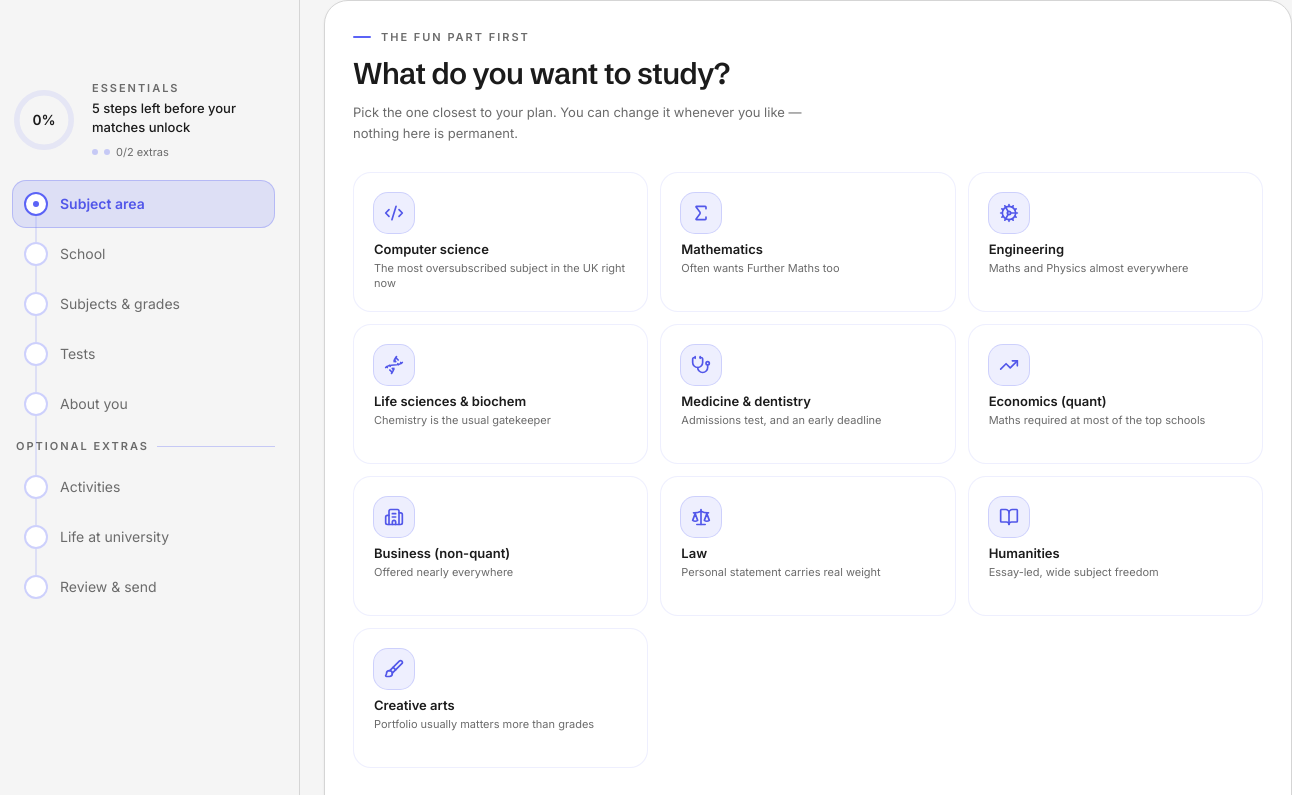
Test: Ascendi › reacts to the subject area with something true about that subject
Click the radio button labelled "Medicine & dentistry Admissions test, and an early deadline" at (808, 394), box [660, 324, 956, 464]
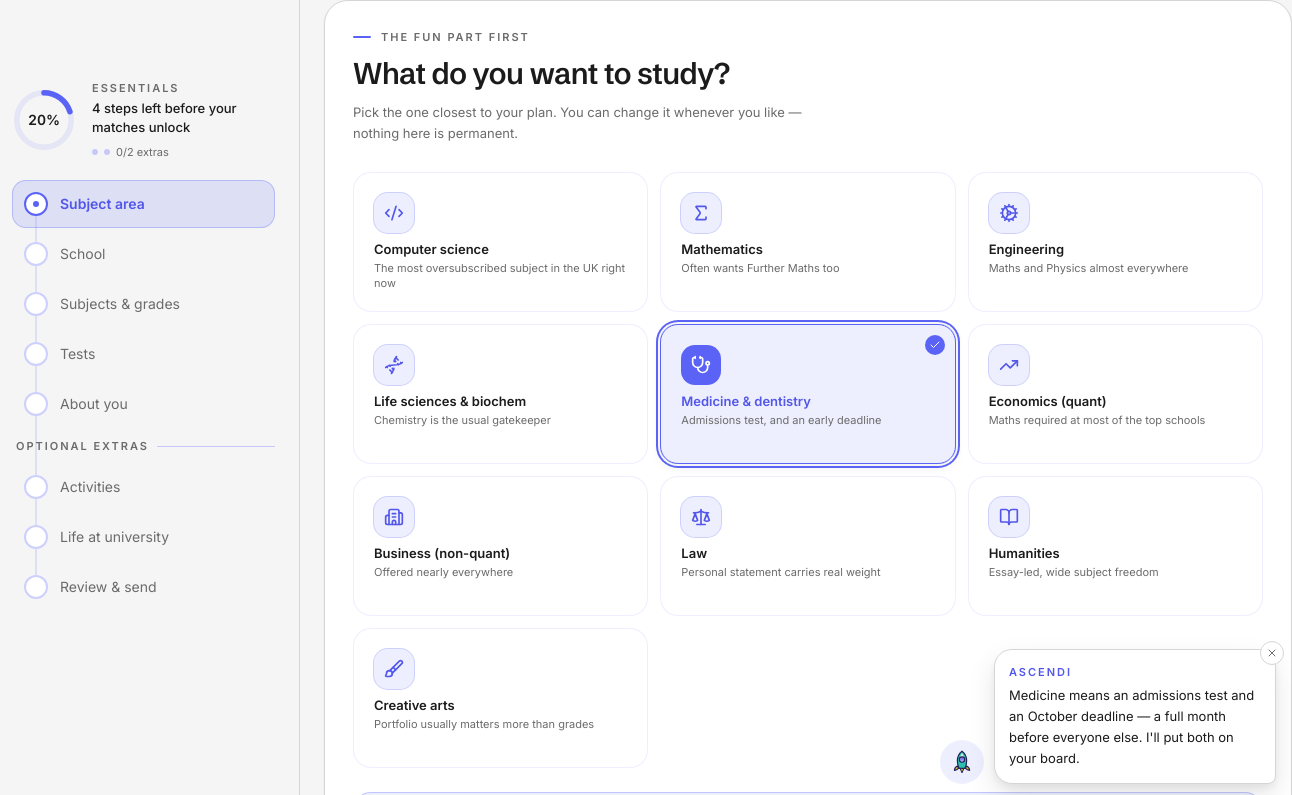
Check: the text "admissions test and an October deadline" is shown, box [1009, 686, 1254, 766]
